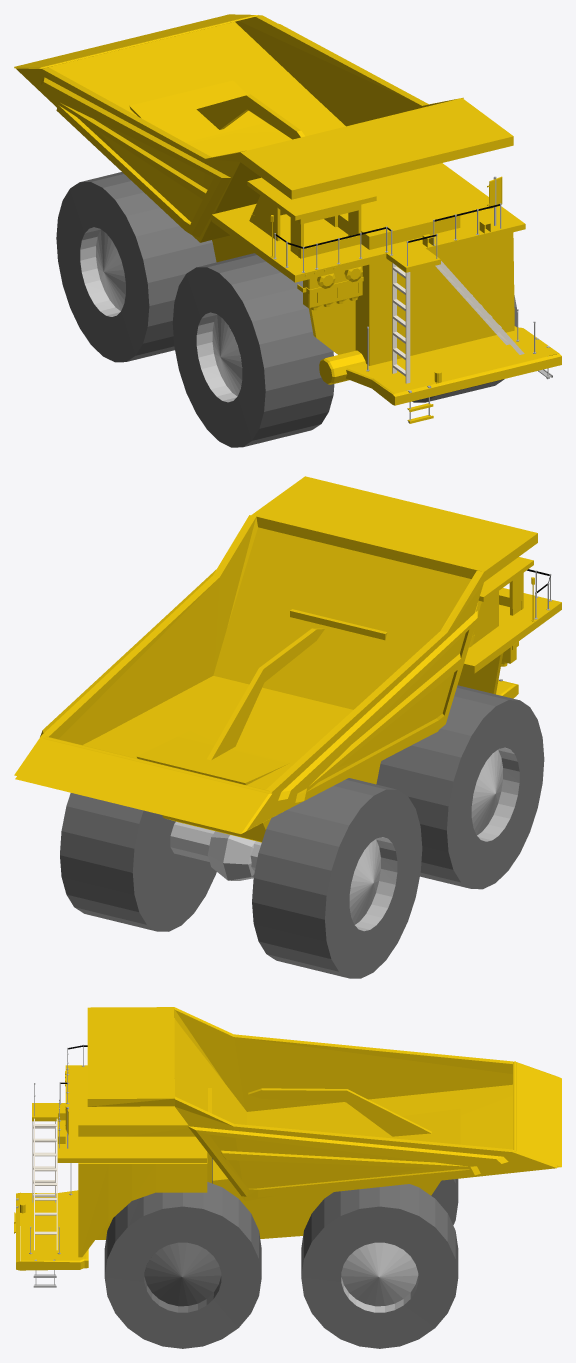
File: mining-haul-truck.glb
3 views of the same model, one above another, from view 1: azimuth 30°, elevation 25°; view 2: azimuth 150°, elevation 25°; view 3: azimuth 270°, elevation 25° (orthographic). The views are drawn at different scales.
Visible parts, largest first — view 1: EarthMover; view 2: EarthMover; view 3: EarthMover.
Part boxes in pixels (bbox=[...]): EarthMover: bbox=[14, 14, 561, 447]; EarthMover: bbox=[14, 476, 561, 978]; EarthMover: bbox=[14, 1007, 561, 1348].
Size of the model in its own units: 5.85 by 6.4 by 13.01.
